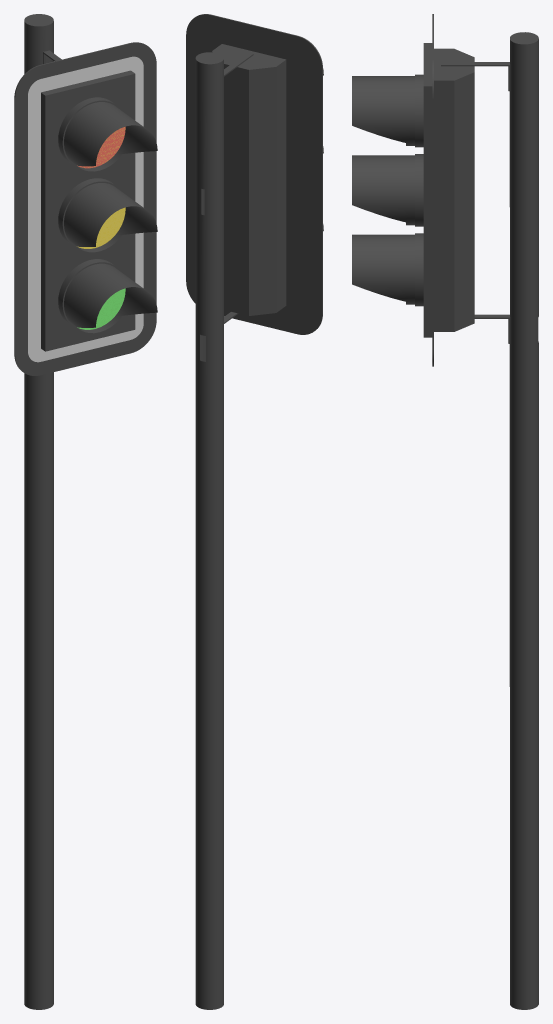
The model's file is TrafficLight.dae.
3 views of the same model, side by side, from view 1: azimuth 30°, elevation 25°; view 2: azimuth 150°, elevation 25°; view 3: azimuth 270°, elevation 25° (orthographic). The views are drawn at different scales.
Parts seen in each view (by area): view 1: group_0 (×9), SketchUp, Red, Green, Yellow; view 2: group_0 (×2), SketchUp; view 3: SketchUp, group_0 (×9).
Part boxes in pixels (x1,y1,x2,y2): group_0 (×9): [14, 42, 157, 375]; SketchUp: [24, 14, 53, 1009]; Red: [77, 126, 125, 168]; Green: [77, 288, 125, 329]; Yellow: [77, 207, 125, 248]; group_0 (×2): [186, 14, 322, 334]; SketchUp: [195, 52, 223, 1009]; SketchUp: [509, 32, 538, 1009]; group_0 (×9): [352, 14, 474, 366].
Bounding box in the file's own units: 21.65 × 25.19 × 144.
